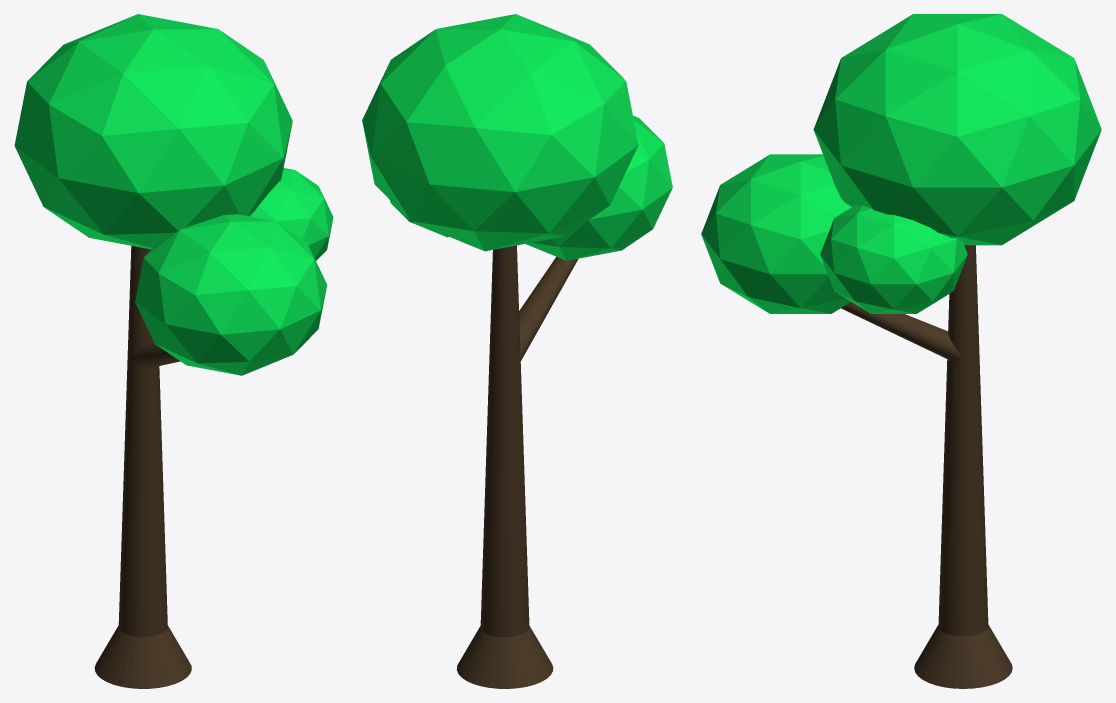
The model's file is Tree1.fbx.
3 renders of one model, left to right at view 1: azimuth 30°, elevation 25°; view 2: azimuth 150°, elevation 25°; view 3: azimuth 270°, elevation 25°, orthographic.
Visible parts, largest first — view 1: Tree2; view 2: Tree2; view 3: Tree2.
Boxes of the visible parts, x1,y1,x2,y2 form: Tree2: [14, 14, 333, 688]; Tree2: [362, 14, 672, 688]; Tree2: [701, 14, 1101, 688].
Bounding box in the file's own units: 1105 × 1971 × 820.
